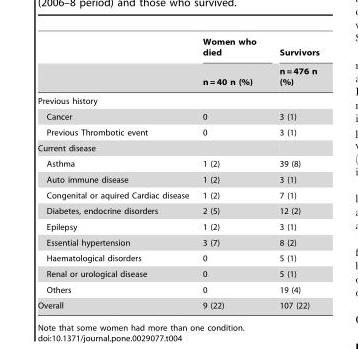table: (37, 37, 318, 309)
table column: (37, 37, 195, 309), (195, 37, 267, 309), (267, 37, 318, 309)
table column header: (37, 37, 318, 91)
table projected row header: (37, 91, 318, 108), (37, 140, 318, 155)
table row: (37, 61, 318, 91), (37, 37, 318, 61), (37, 91, 318, 108), (37, 108, 318, 124), (37, 124, 318, 140), (37, 155, 318, 171), (37, 171, 318, 187), (37, 187, 318, 203), (37, 218, 318, 234), (37, 234, 318, 250), (37, 265, 318, 281), (37, 281, 318, 297), (37, 140, 318, 155), (37, 203, 318, 218), (37, 250, 318, 265), (37, 297, 318, 309)
table spanning cell: (195, 37, 267, 91), (267, 37, 318, 91)
